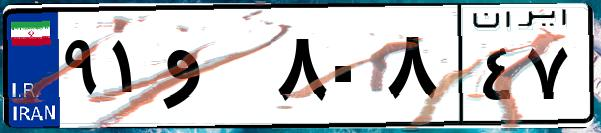0: (330, 28, 385, 110)
1: (110, 28, 158, 98)
4: (475, 38, 525, 113)
7: (525, 38, 570, 115)
8: (270, 28, 330, 110), (385, 28, 445, 110)
9: (57, 26, 110, 100)
و: (158, 20, 270, 120)
